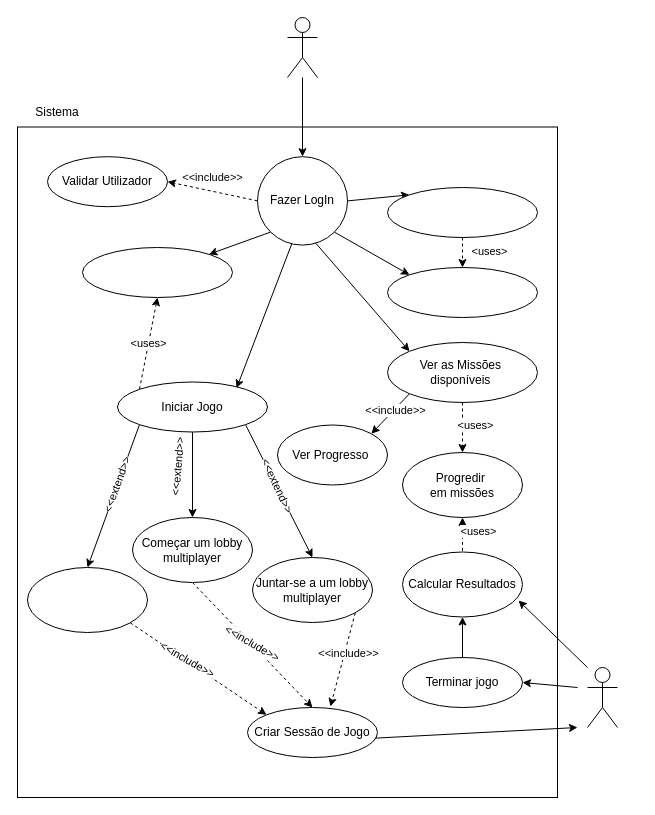
The diagram is 655 pixels wide and 815 high, and some of its shapes have lost their labels. The shapes that lost their labels are listed below. From the top down, each one's box as (x1, y1, x2, y2) in pixels, then its label:
(286, 16, 318, 78): Jogador
(386, 186, 538, 238): Personalizar personagem
(82, 246, 232, 298): Melhorar os seus PowerUps
(386, 266, 538, 318): Comprar Cosméticos na loja
(26, 566, 148, 632): Jogar sozinho
(586, 666, 618, 728): Game Server
